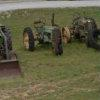Tractor: (21, 14, 83, 60)
